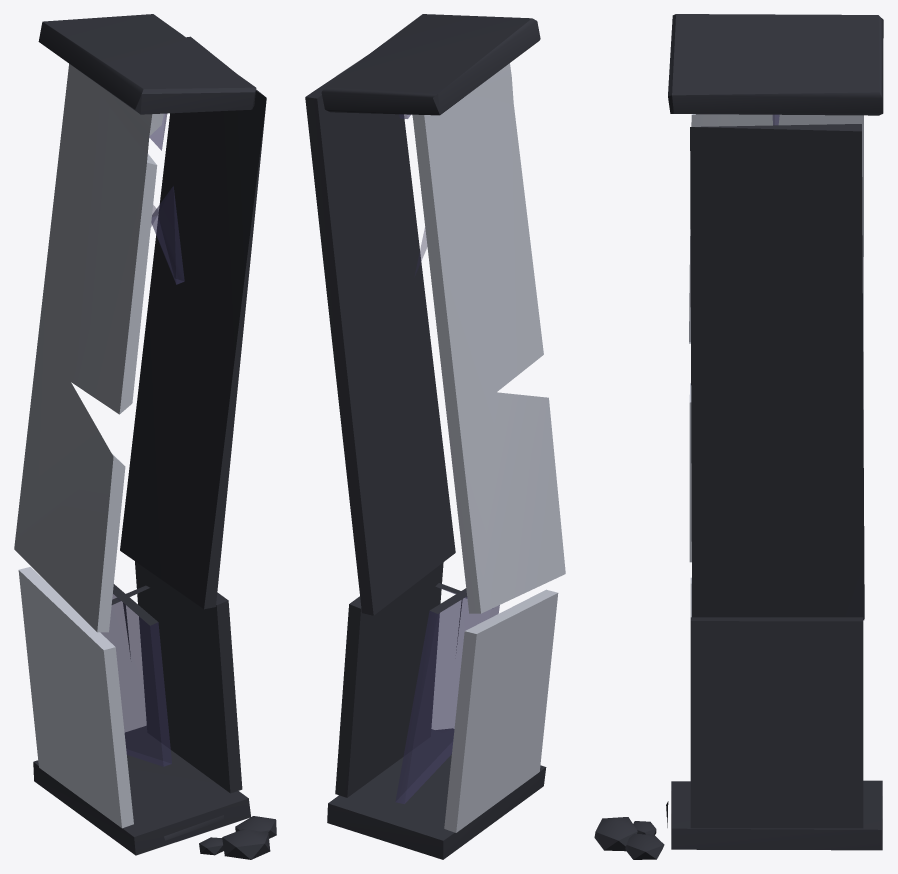
The model's file is mrd_deb_phase_shield_a.glb.
The picture shows the model from 3 angles, left to right: view 1: azimuth 30°, elevation 25°; view 2: azimuth 150°, elevation 25°; view 3: azimuth 270°, elevation 25°; orthographic projection. The views are drawn at different scales.
Visible parts, largest first — view 1: frag_01, husk, frag_03, frag_02; view 2: frag_01, husk, frag_03; view 3: frag_01, husk, frag_03.
Part boxes in pixels (left/top/right/bottom): frag_01: left=14, top=36, right=266, bottom=632; husk: left=18, top=561, right=276, bottom=859; frag_03: left=38, top=14, right=256, bottom=150; frag_02: left=151, top=186, right=184, bottom=284; frag_01: left=305, top=56, right=565, bottom=615; husk: left=327, top=562, right=558, bottom=859; frag_03: left=321, top=14, right=540, bottom=118; frag_01: left=689, top=114, right=864, bottom=620; husk: left=594, top=577, right=882, bottom=859; frag_03: left=668, top=14, right=883, bottom=125.
Size of the model in its own units: 0.294 by 1.22 by 0.4013.
